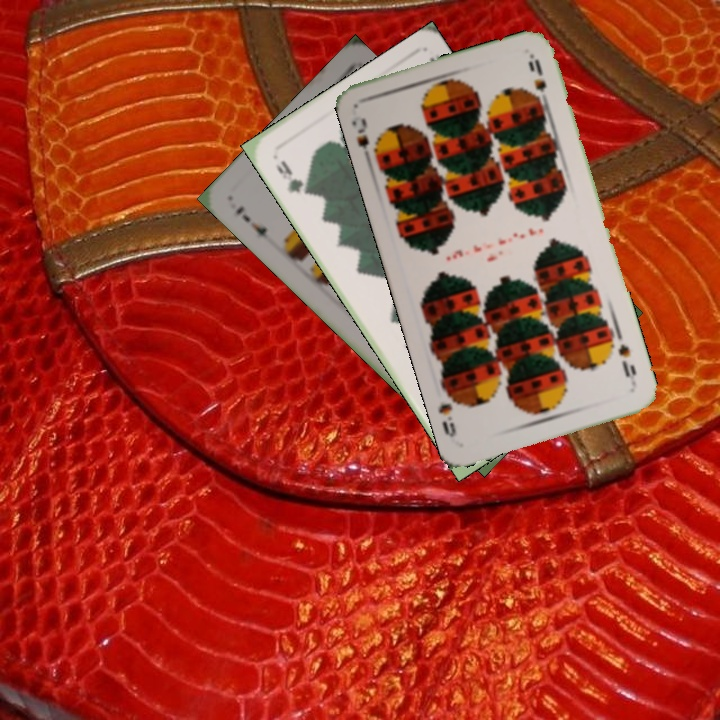E7: (231, 202, 270, 239)
G9: (271, 156, 313, 199)
S9: (352, 113, 381, 166), (614, 339, 639, 380)
